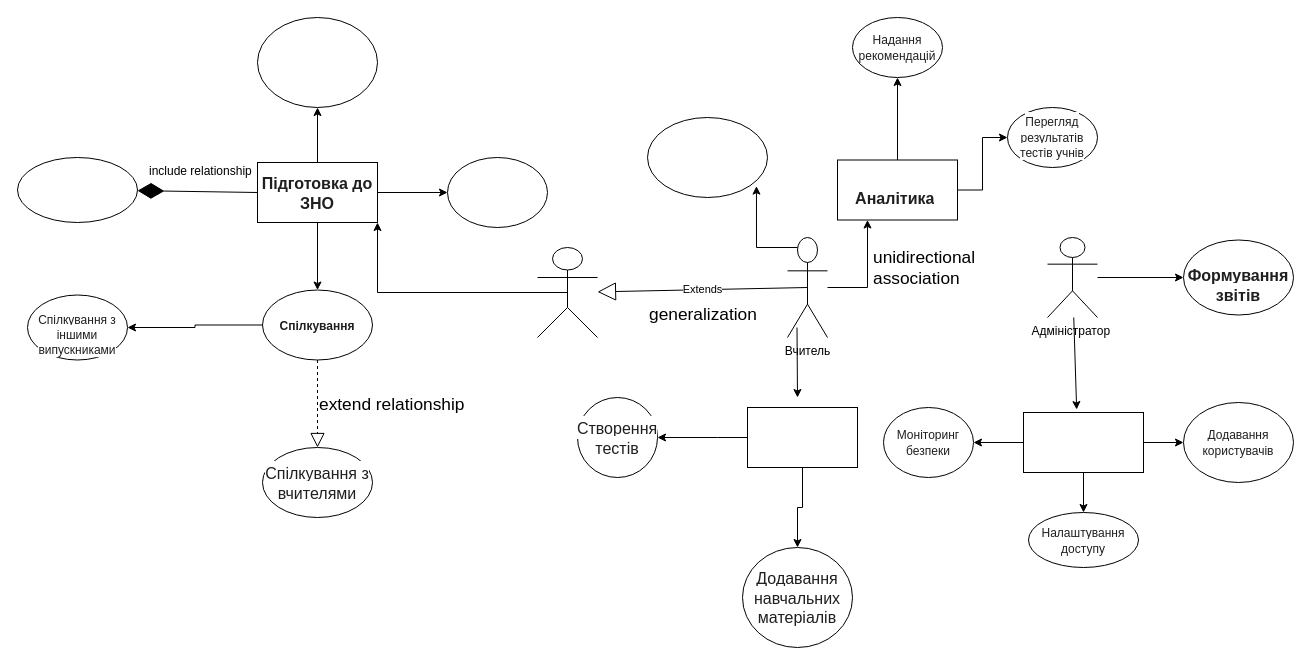
Some shapes in this 1311 by 665 pixel diagram are drawn without their labels. The centre of each missing label's shape, as x and y in pixels:
"Випускник" belongs at (567,292).
"Доступ до навчальних матеріалів" belongs at (317,62).
"Збір статистики" belongs at (707,157).
"Перегляд зразків ЗНО" belongs at (77,189).
"Проходження тестів" belongs at (497,192).
"Створення контенту" belongs at (802,437).
"Управління платформою" belongs at (1083,442).
